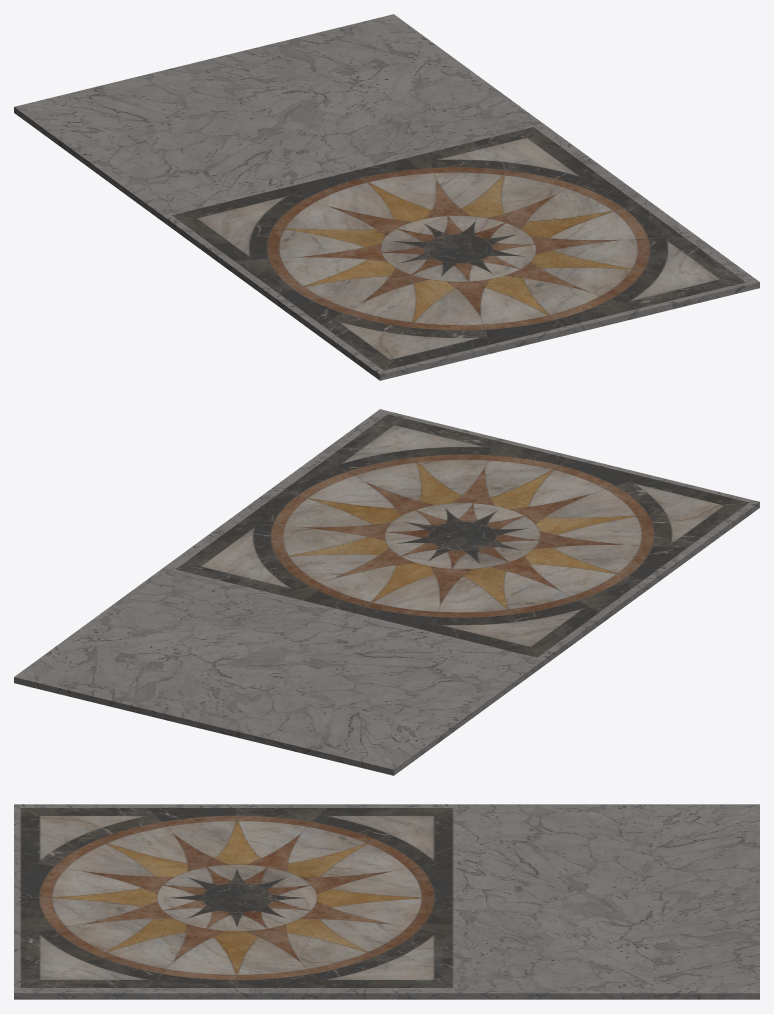
Rendered from FloorSantuario.fbx.
3 views of the same model, one above another, from view 1: azimuth 30°, elevation 25°; view 2: azimuth 150°, elevation 25°; view 3: azimuth 270°, elevation 25° (orthographic).
Parts seen in each view (by area): view 1: Cube.003; view 2: Cube.003; view 3: Cube.003.
Part boxes in pixels (x1,y1,x2,y2): Cube.003: [14, 14, 759, 380]; Cube.003: [14, 409, 759, 775]; Cube.003: [14, 804, 759, 999].
Size of the model in its own units: 3961 by 60.17 by 6611.
